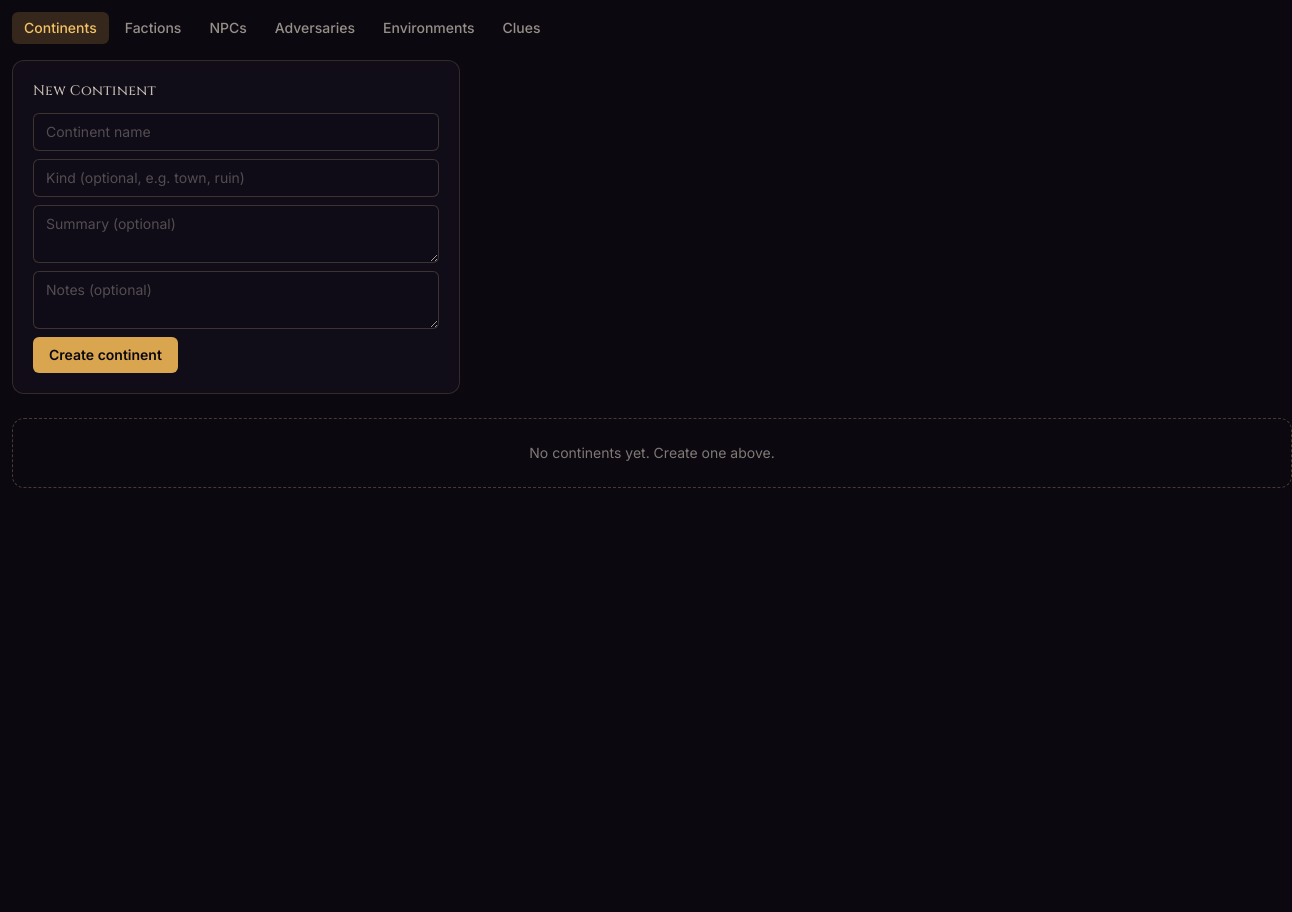
Scenario: LibraryPage › Clues tab › groups clues by revelation with a visible count, ungrouped last
Click the button "Clues" at (522, 28), box [491,12,553,44]
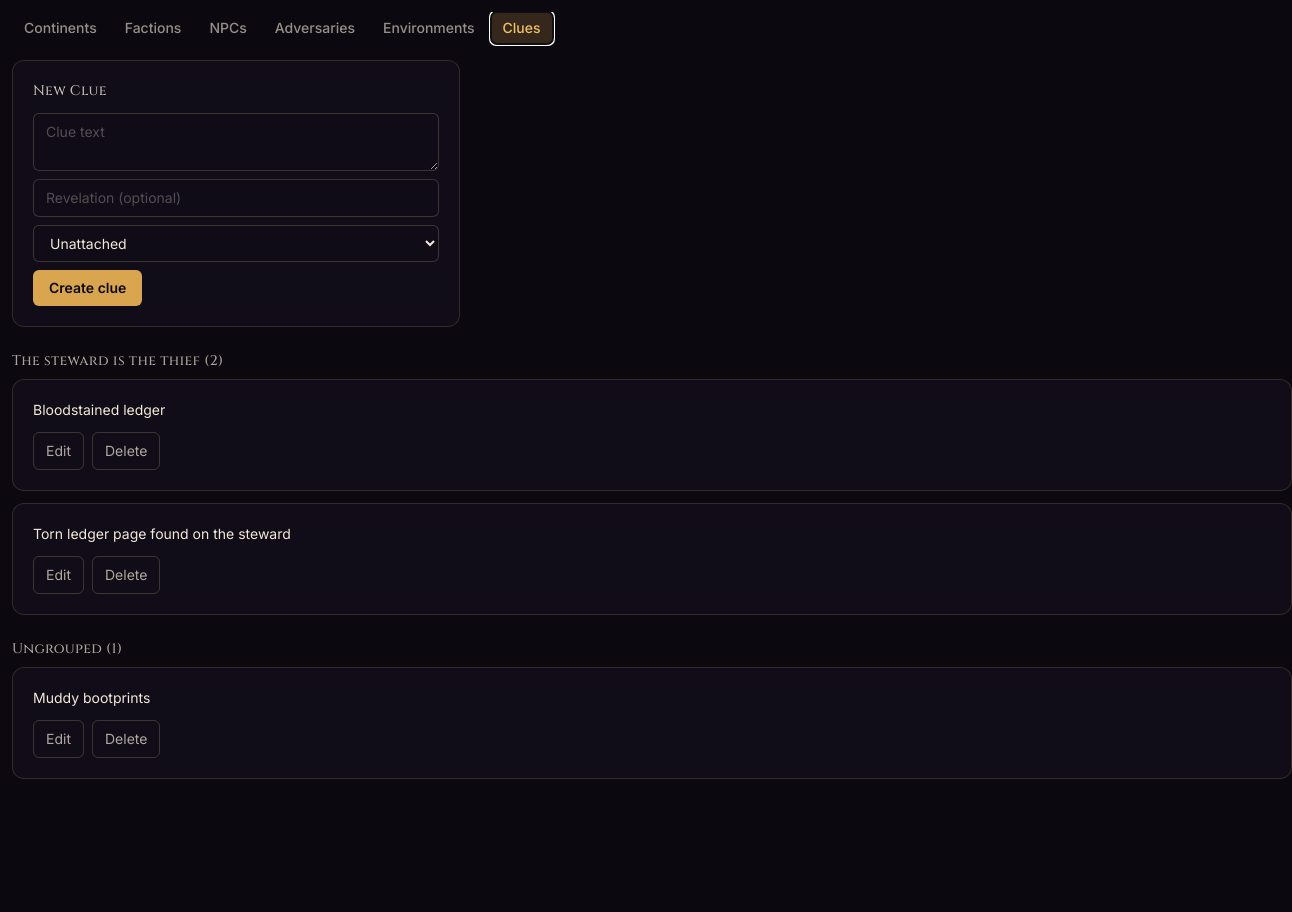
Expected: the text "Bloodstained ledger" is shown, [33,401,165,418]
Expected: the heading "The steward is the thief (2)" is shown, [12,351,224,370]
Expected: the heading "Ungrouped (1)" is shown, [12,639,122,658]
